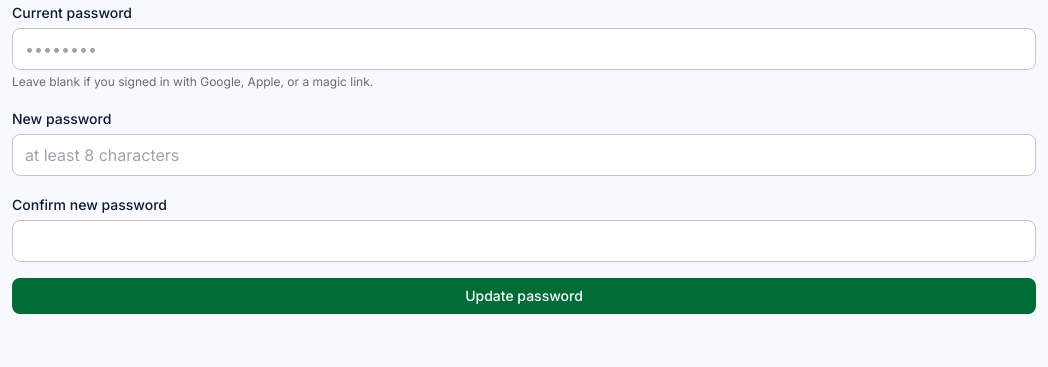
ChangePasswordForm › blocks submit when the new password is shorter than 8 characters
Type "short" into the password field with id "new-password".
click(524, 155); type("short")  # box [12,134,1036,176]
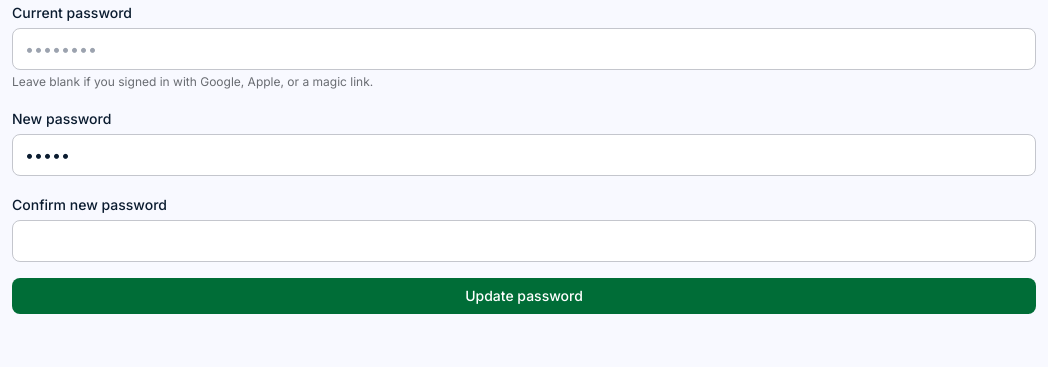
Submit the form
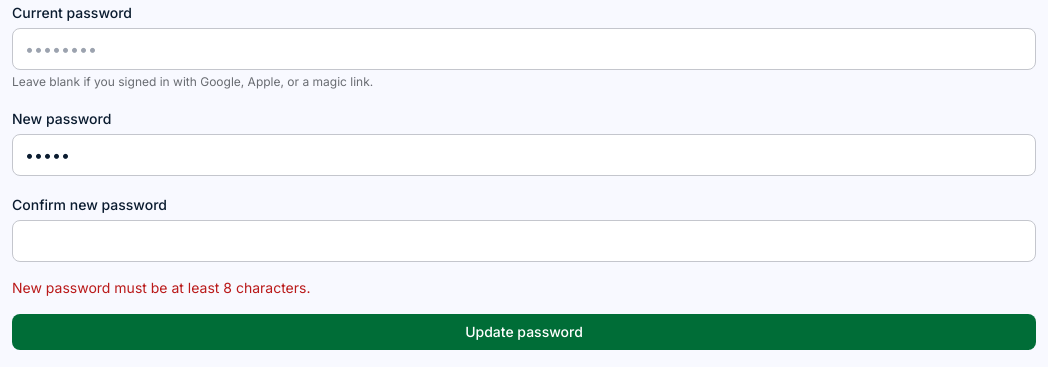
Expected: the form shows "New password must be at least 8 characters.", [12,279,310,296]
